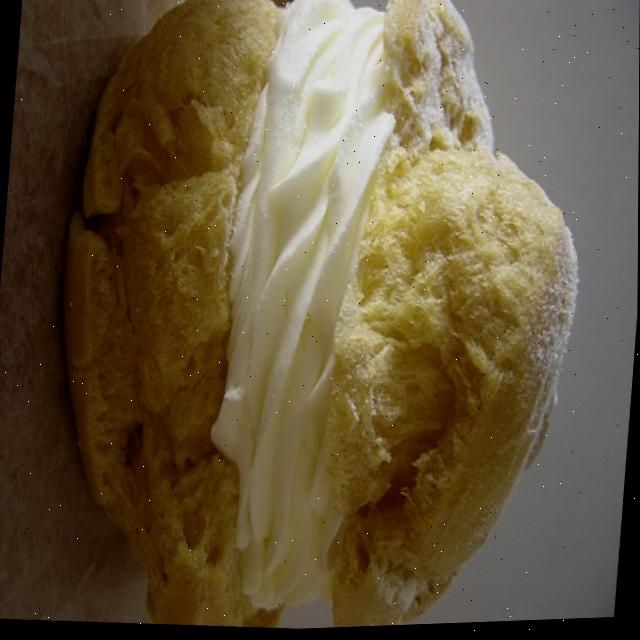炸货点心: (31, 0, 618, 639)
蛋糕甜品: (31, 0, 618, 639)
